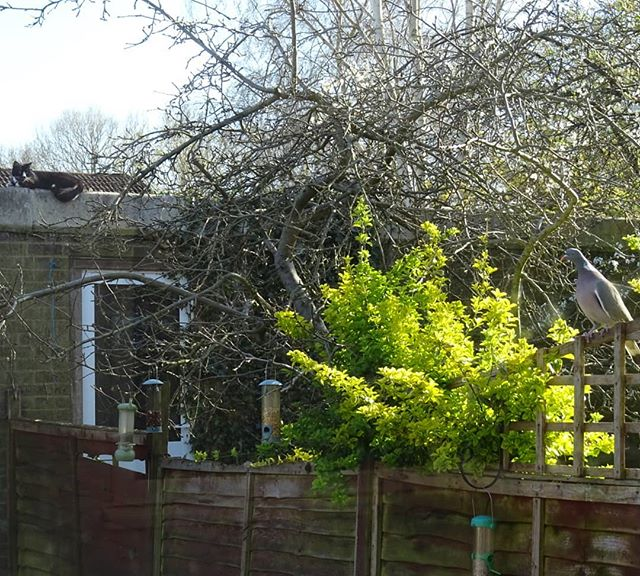animal: (560, 246, 632, 344), (10, 153, 77, 203)
building: (17, 201, 228, 454)
tree: (160, 1, 640, 422), (272, 236, 579, 459)
